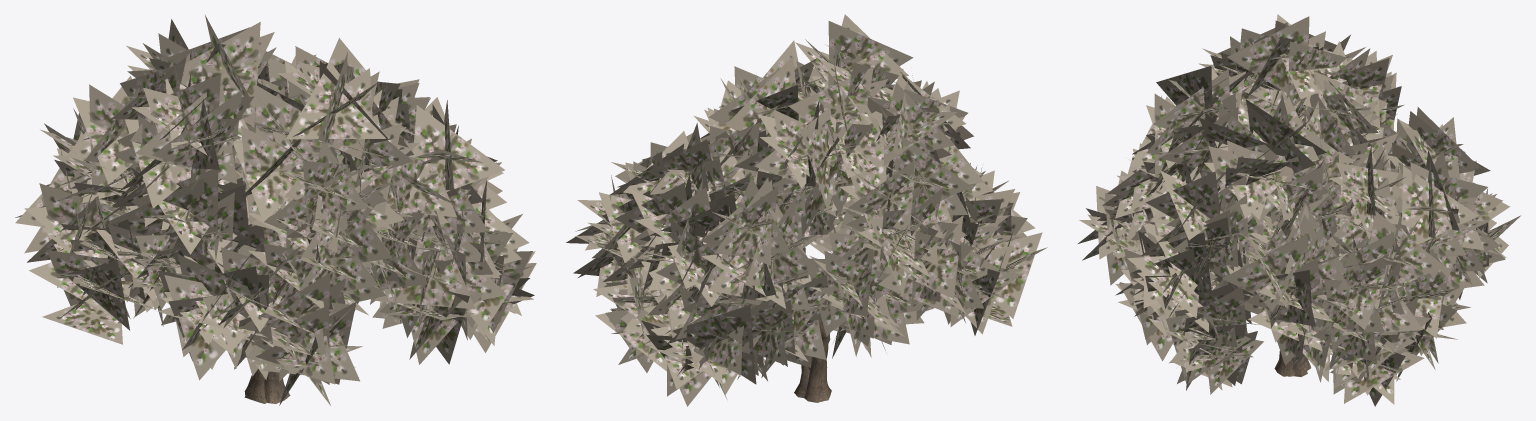
Rendered from Cerasus_Yedoensis_Spring_Adult.glb.
3 views of the same model, side by side, from view 1: azimuth 30°, elevation 25°; view 2: azimuth 150°, elevation 25°; view 3: azimuth 270°, elevation 25° (orthographic). The views are drawn at different scales.
Parts seen in each view (by area): view 1: Cerasus_Yedoensis_Spring_Adult__LOD3; view 2: Cerasus_Yedoensis_Spring_Adult__LOD3; view 3: Cerasus_Yedoensis_Spring_Adult__LOD3.
Part boxes in pixels (bbox=[...]): Cerasus_Yedoensis_Spring_Adult__LOD3: bbox=[15, 15, 536, 405]; Cerasus_Yedoensis_Spring_Adult__LOD3: bbox=[566, 14, 1047, 406]; Cerasus_Yedoensis_Spring_Adult__LOD3: bbox=[1078, 14, 1520, 406].
Bounding box in the file's own units: 14.33 × 11.64 × 14.17.
2 materials, 2 textured.
